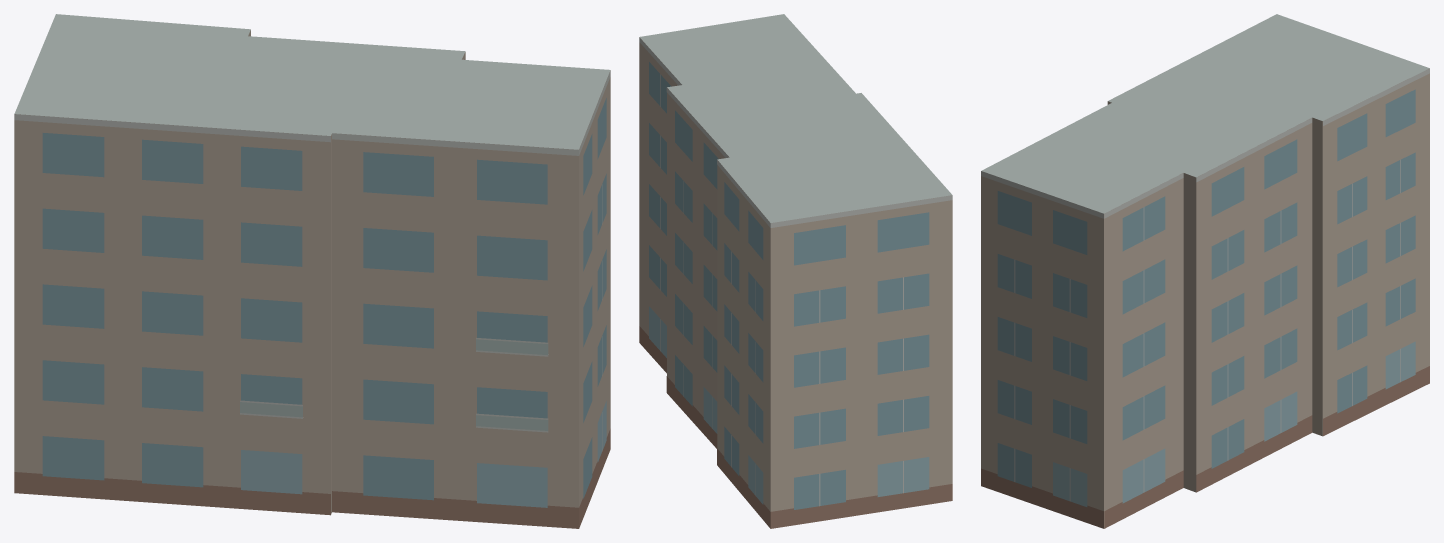
Rendered from survey-upis-33004888.glb.
3 renders of one model, left to right at view 1: azimuth 30°, elevation 25°; view 2: azimuth 150°, elevation 25°; view 3: azimuth 270°, elevation 25°, orthographic. The views are drawn at different scales.
Parts seen in each view (by area): view 1: survey-upis-33004888.tmp; view 2: survey-upis-33004888.tmp; view 3: survey-upis-33004888.tmp.
Boxes of the visible parts, <box> form: survey-upis-33004888.tmp: <box>14,14,610,528</box>; survey-upis-33004888.tmp: <box>639,14,952,528</box>; survey-upis-33004888.tmp: <box>981,14,1429,528</box>.
Size of the model in its own units: 20.4 by 15 by 19.37.
